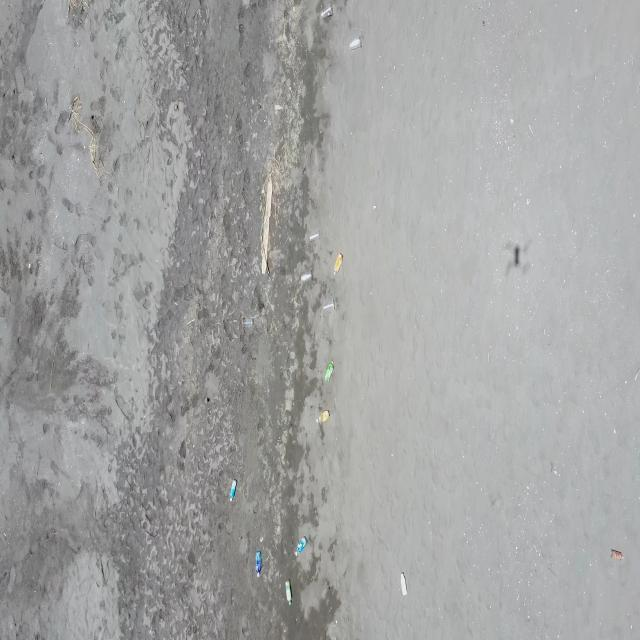plastic-bottle: (295, 534, 308, 558), (333, 252, 345, 275), (255, 550, 263, 579), (399, 571, 408, 596), (316, 408, 330, 424), (324, 360, 334, 382), (285, 580, 292, 606), (230, 479, 237, 502)
takeaway-cup: (349, 33, 364, 51), (323, 296, 336, 312), (308, 228, 321, 244), (320, 4, 333, 20), (300, 271, 314, 282), (242, 317, 254, 328)
